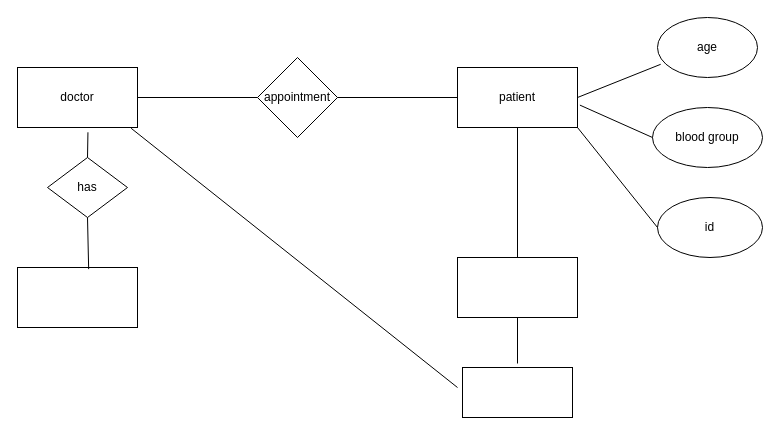
This 780x435 diagram has some shape labels left out. The box of each missing label's shape, as (x1, y1, x2, y2) in pixels:
disease: (456, 256, 578, 318)
specilisation: (16, 266, 138, 328)
treatment: (462, 366, 572, 418)
